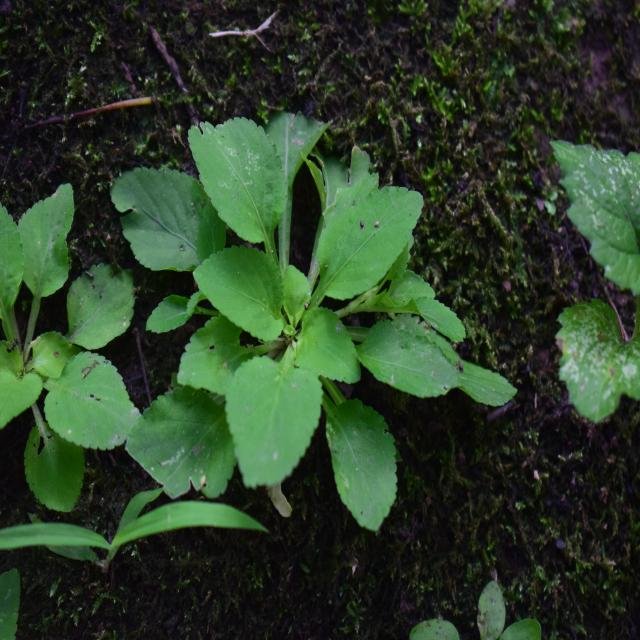Viola: (142, 110, 454, 524)
